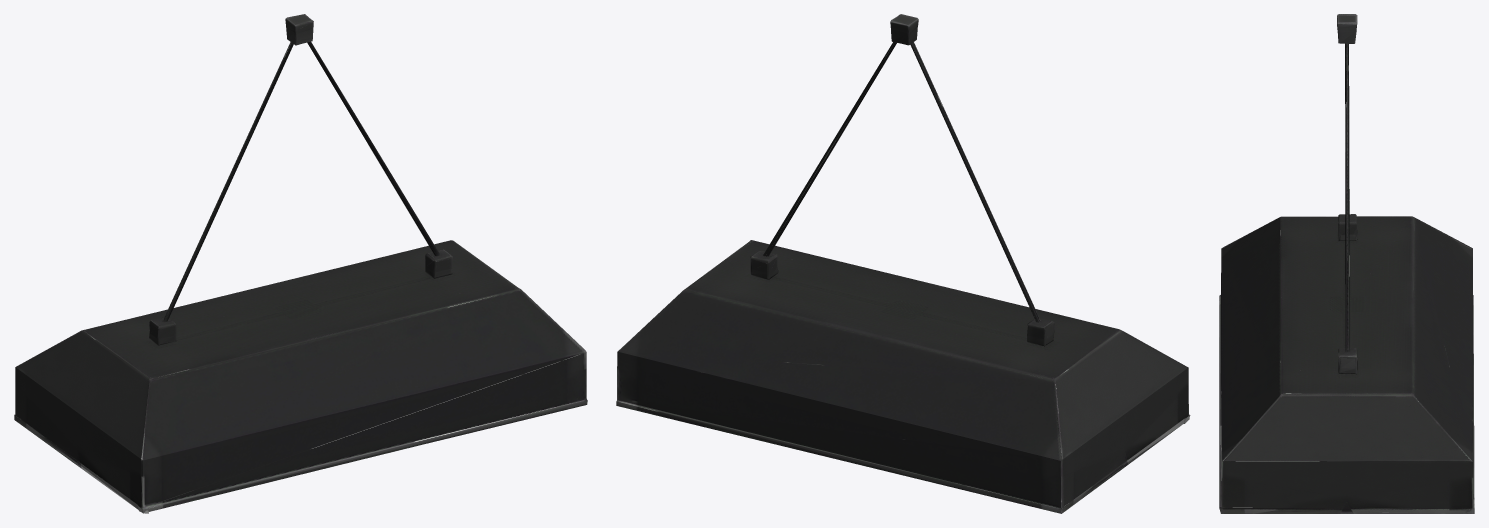
File: grow-light.glb
The picture shows the model from 3 angles, left to right: view 1: azimuth 30°, elevation 25°; view 2: azimuth 150°, elevation 25°; view 3: azimuth 270°, elevation 25°; orthographic projection.
Bounding box in the file's own units: 1 × 0.8477 × 0.5039.
Materials: 1 (1 with a texture image).
